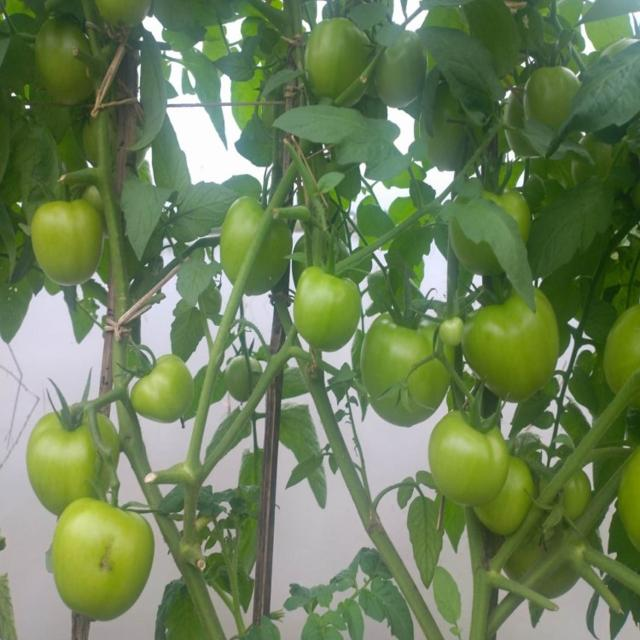tomato: (462, 293, 569, 415), (51, 498, 152, 624), (28, 403, 121, 518), (365, 313, 449, 418), (431, 413, 514, 505), (221, 197, 291, 296), (452, 191, 534, 273), (38, 198, 100, 292), (476, 458, 539, 542), (133, 351, 198, 430), (41, 20, 99, 106), (300, 268, 357, 354), (597, 306, 640, 417), (304, 22, 363, 99), (523, 63, 577, 139), (373, 40, 426, 108), (619, 438, 640, 563), (557, 467, 596, 531), (294, 228, 347, 274), (508, 91, 540, 156), (229, 354, 264, 402), (99, 1, 145, 33), (433, 309, 473, 345), (87, 117, 114, 163)
